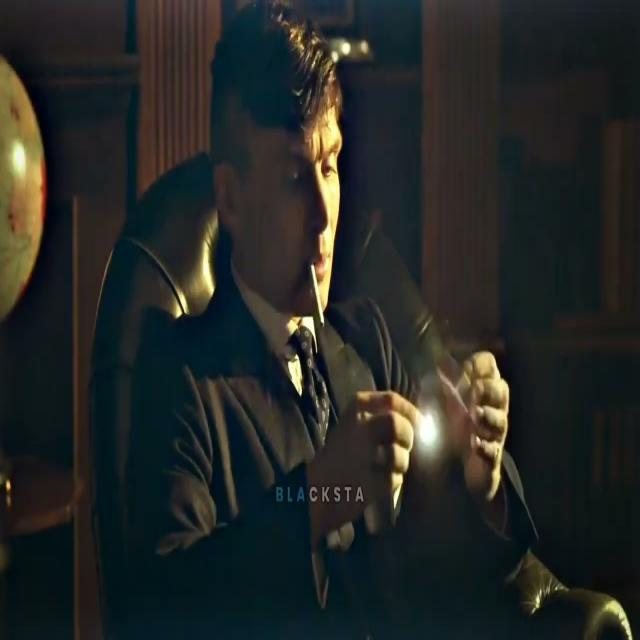cigarette: (308, 263, 334, 340)
